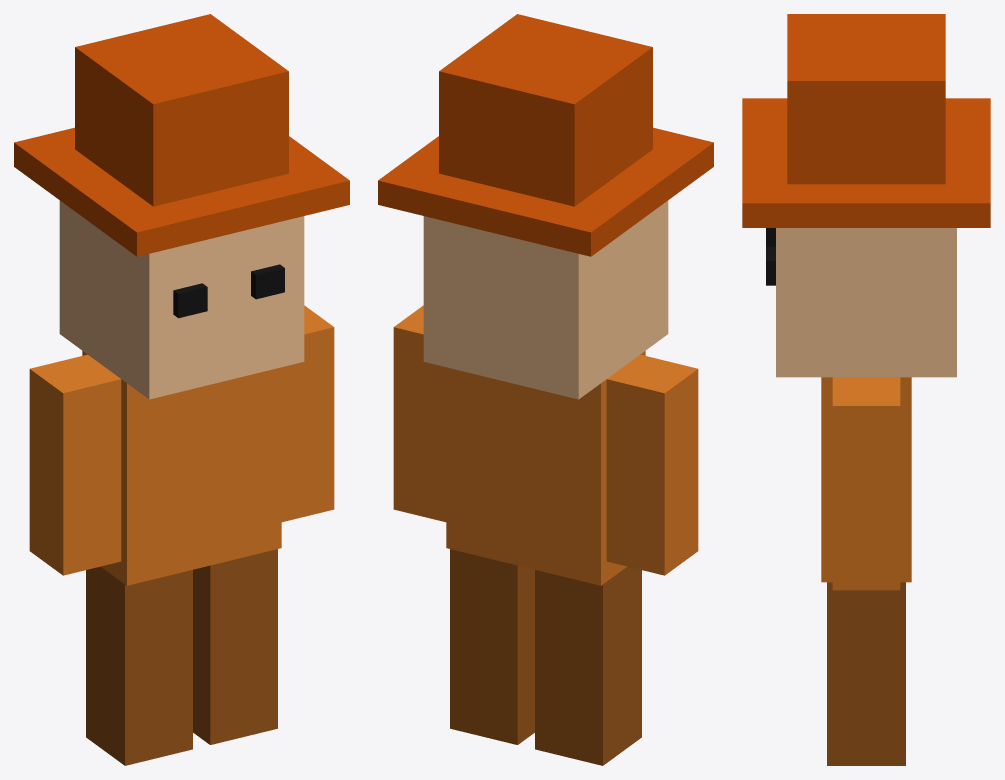
The model's file is npc_logic.obj.
3 renders of one model, left to right at view 1: azimuth 30°, elevation 25°; view 2: azimuth 150°, elevation 25°; view 3: azimuth 270°, elevation 25°, orthographic.
Bounding box in the file's own units: 1.4 × 3.32 × 1.1.
